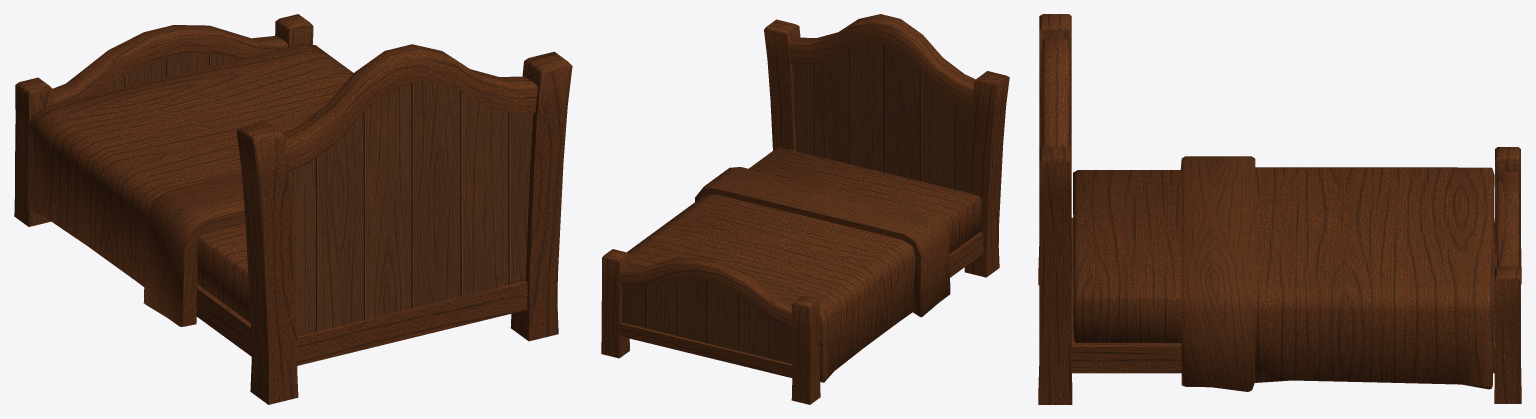
File: Bedroom_Bed.fbx
3 renders of one model, left to right at view 1: azimuth 30°, elevation 25°; view 2: azimuth 150°, elevation 25°; view 3: azimuth 270°, elevation 25°, orthographic. The views are drawn at different scales.
Parts seen in each view (by area): view 1: Bedroom_Bed; view 2: Bedroom_Bed; view 3: Bedroom_Bed.
Boxes of the visible parts, x1,y1,x2,y2 form: Bedroom_Bed: (14, 14, 572, 404); Bedroom_Bed: (601, 14, 1009, 404); Bedroom_Bed: (1038, 14, 1521, 404).
Size of the model in its own units: 105 by 97.99 by 147.
